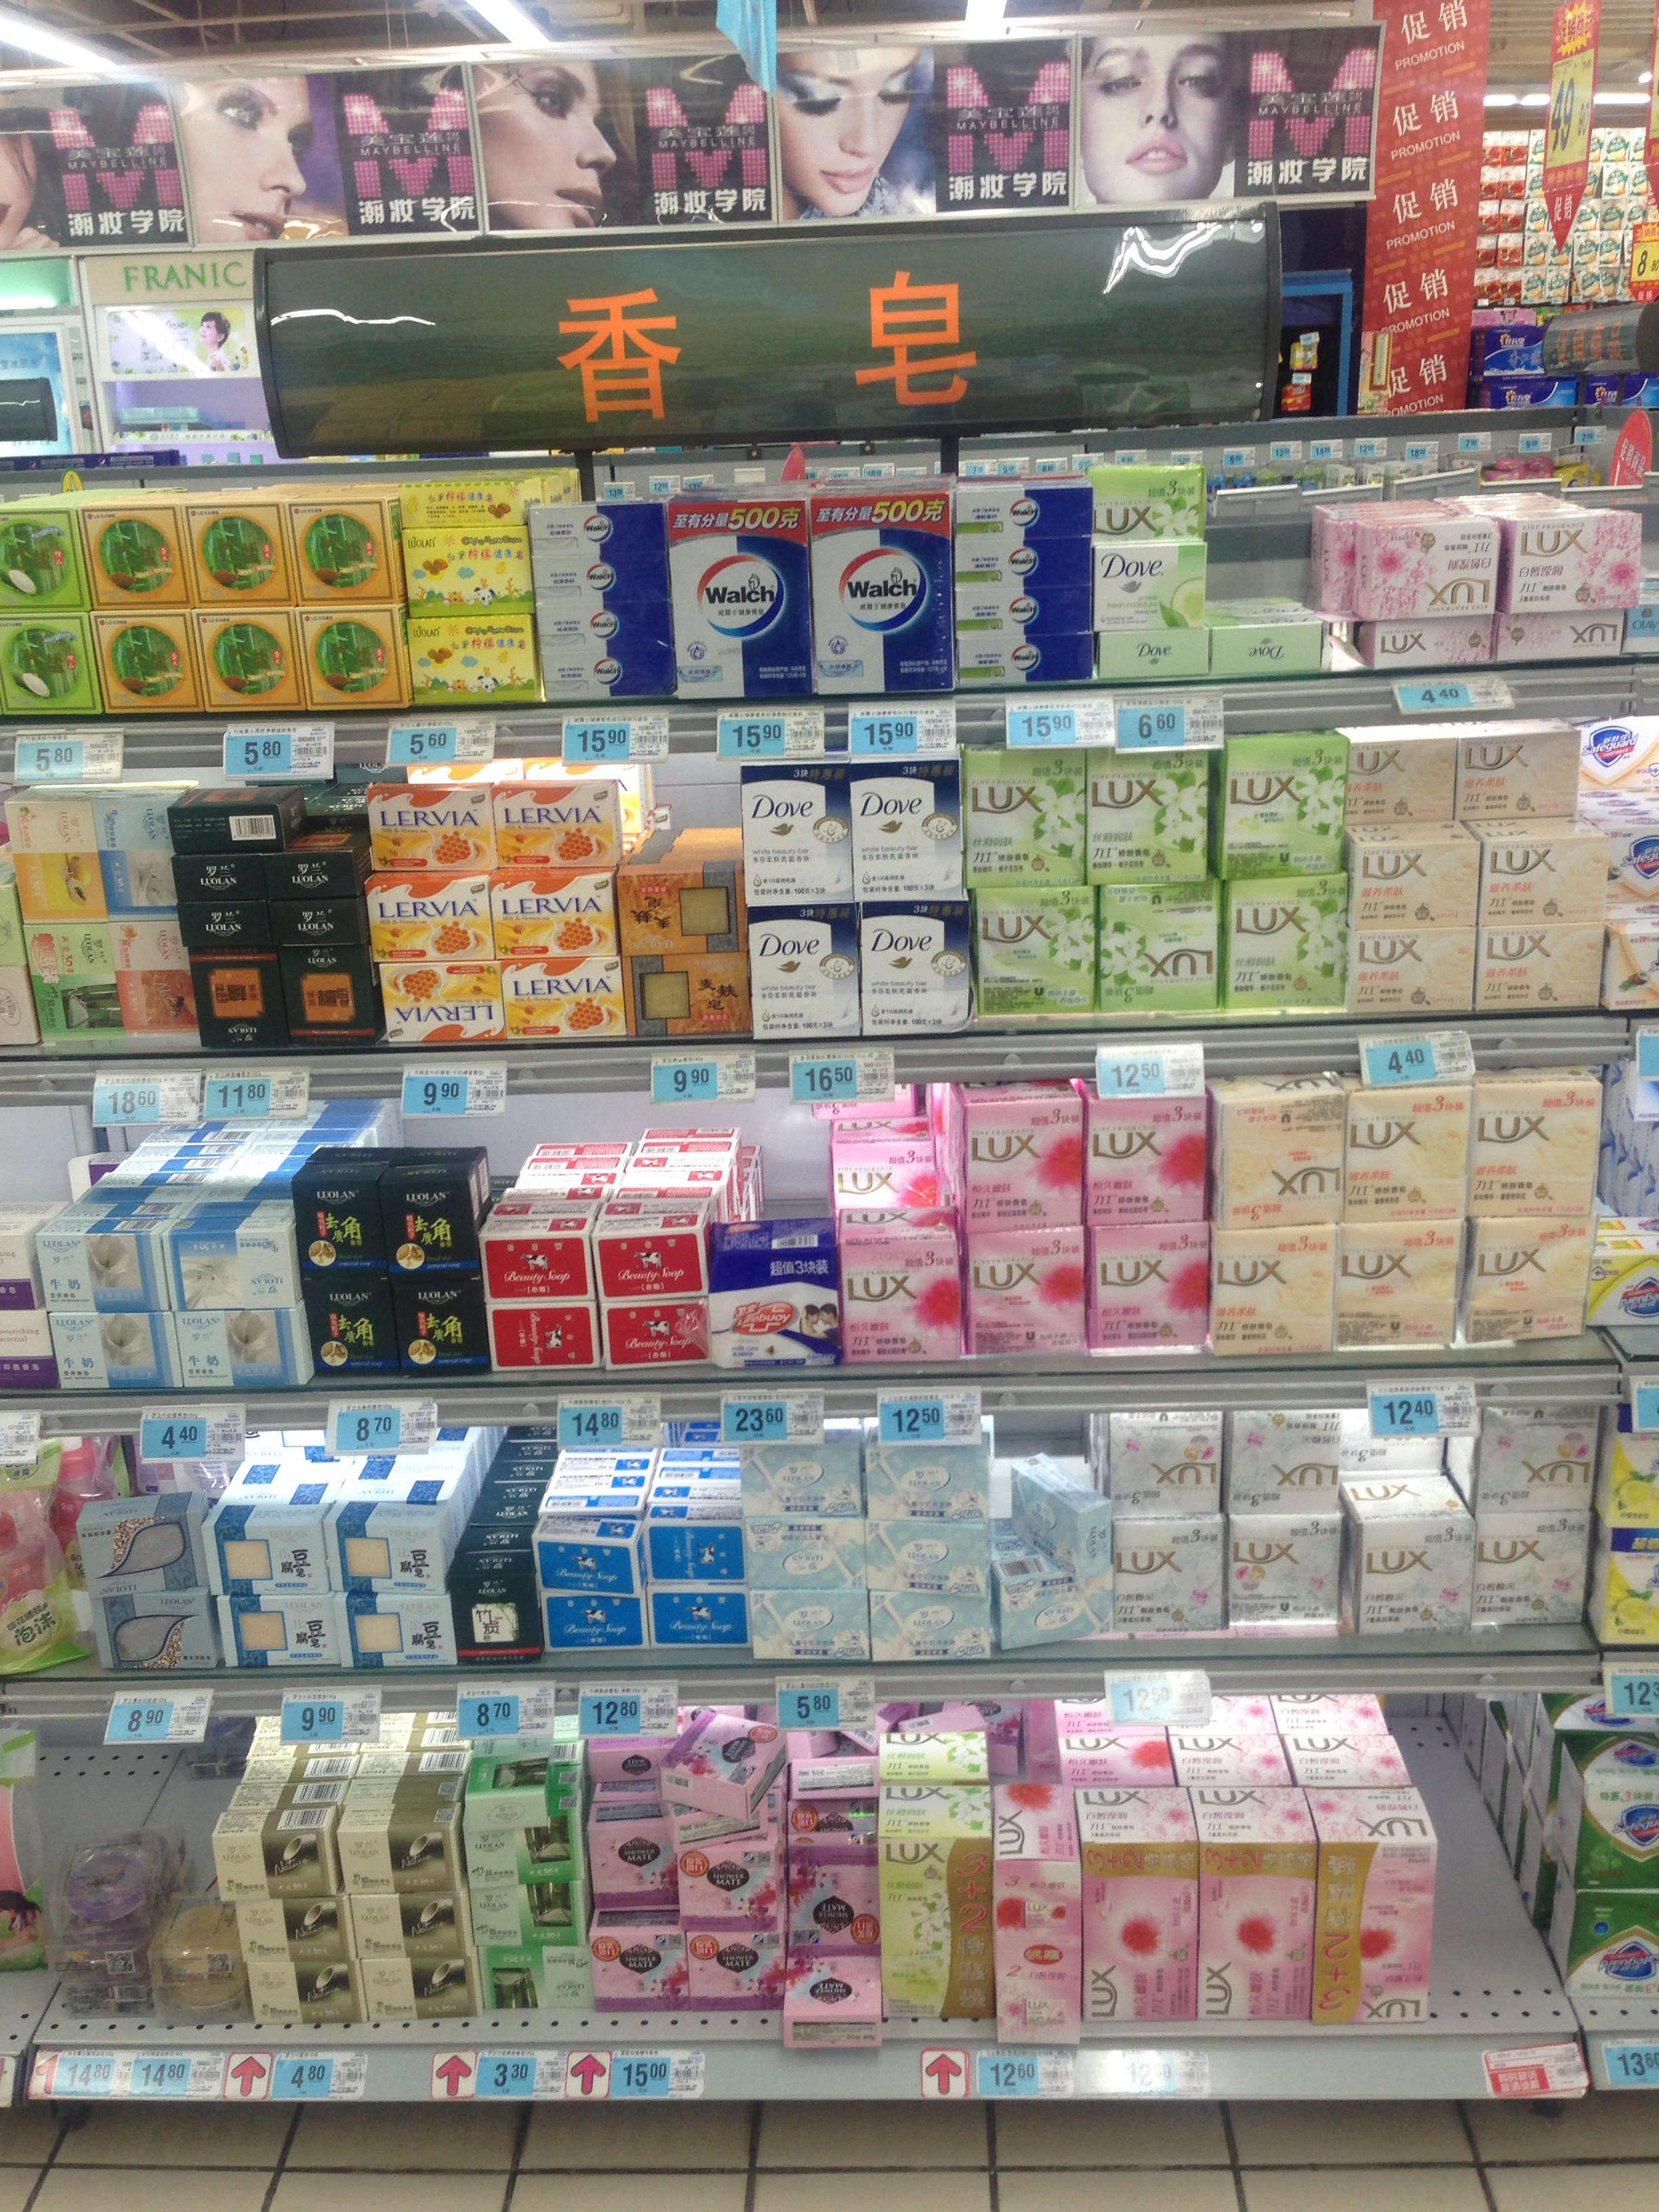misalignment: (662, 1698, 781, 1820), (779, 1944, 887, 2052), (1014, 1458, 1114, 1566), (999, 1562, 1114, 1648), (174, 789, 305, 848)
